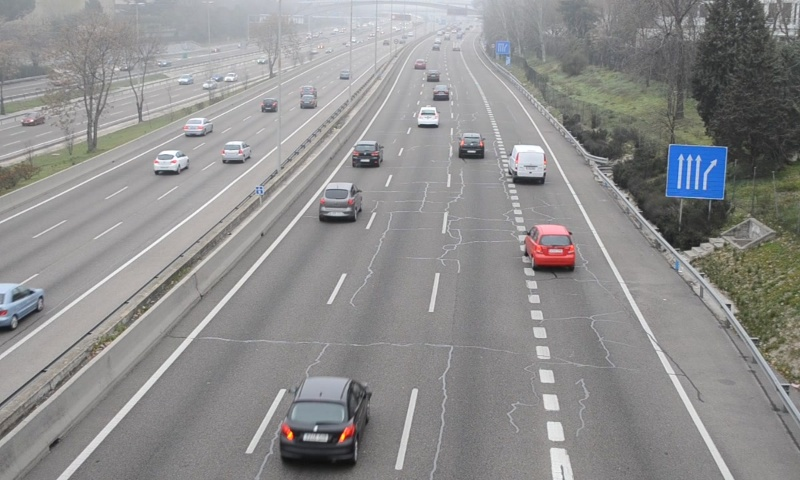car: (280, 378, 371, 458), (525, 223, 576, 269), (318, 182, 362, 219), (352, 140, 383, 167), (458, 132, 484, 158), (416, 104, 440, 128), (432, 84, 450, 100)
van: (510, 144, 548, 181)
